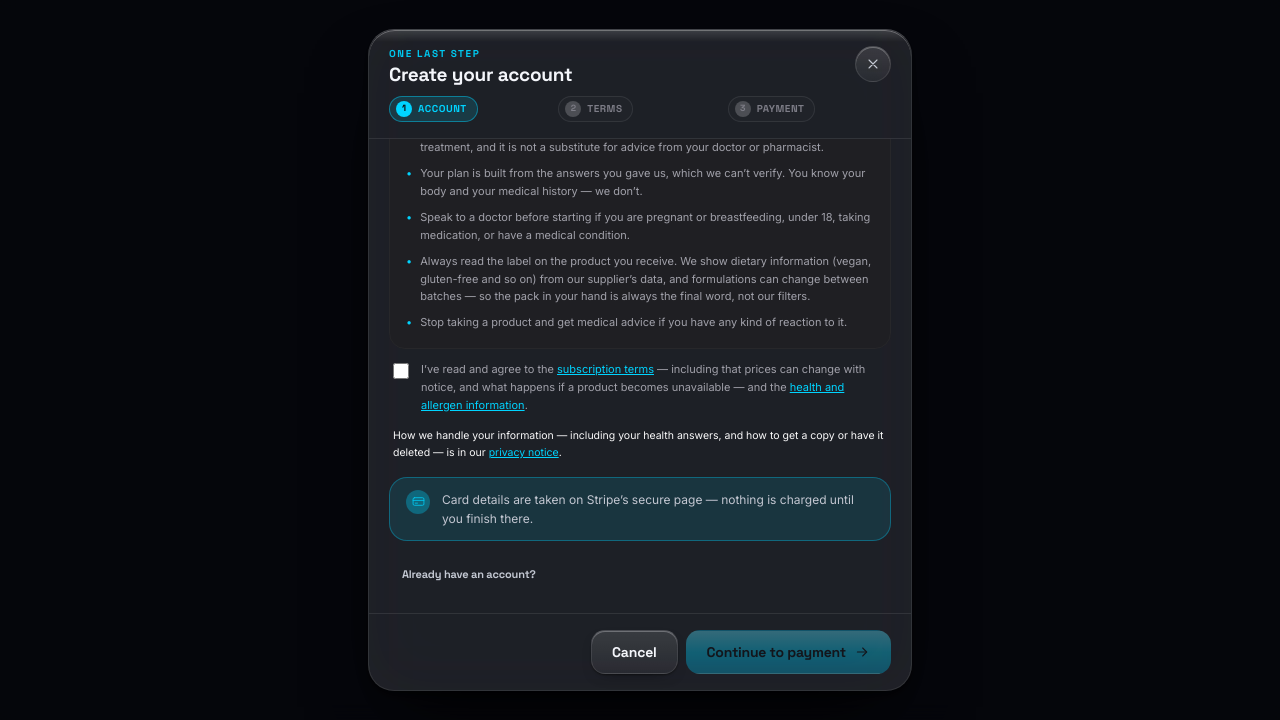
Scenario: AccountGate password reset › says where the link lands, so the checkout isn’t lost silently
(page scrolled)
Click the button "Already have an account?". click: (469, 575)
box: [389,557,549,593]
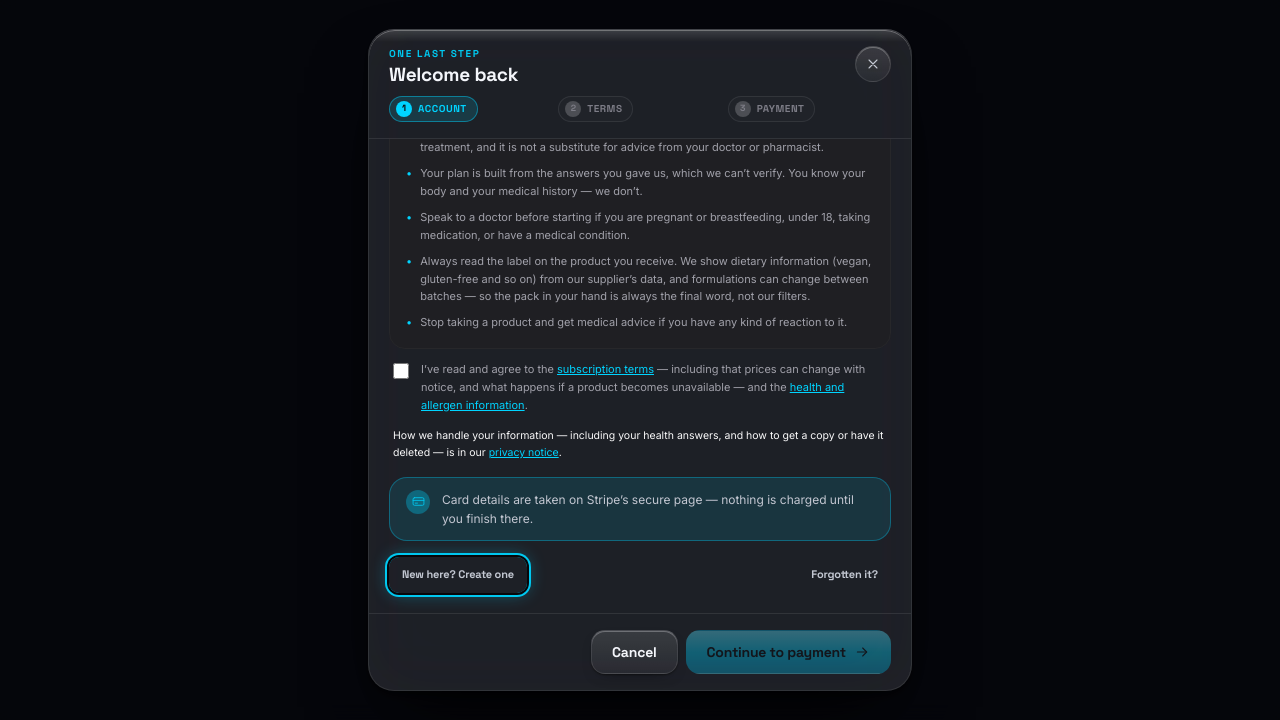
Click the button "Forgotten it?". click: (845, 575)
box: [798,557,891,593]
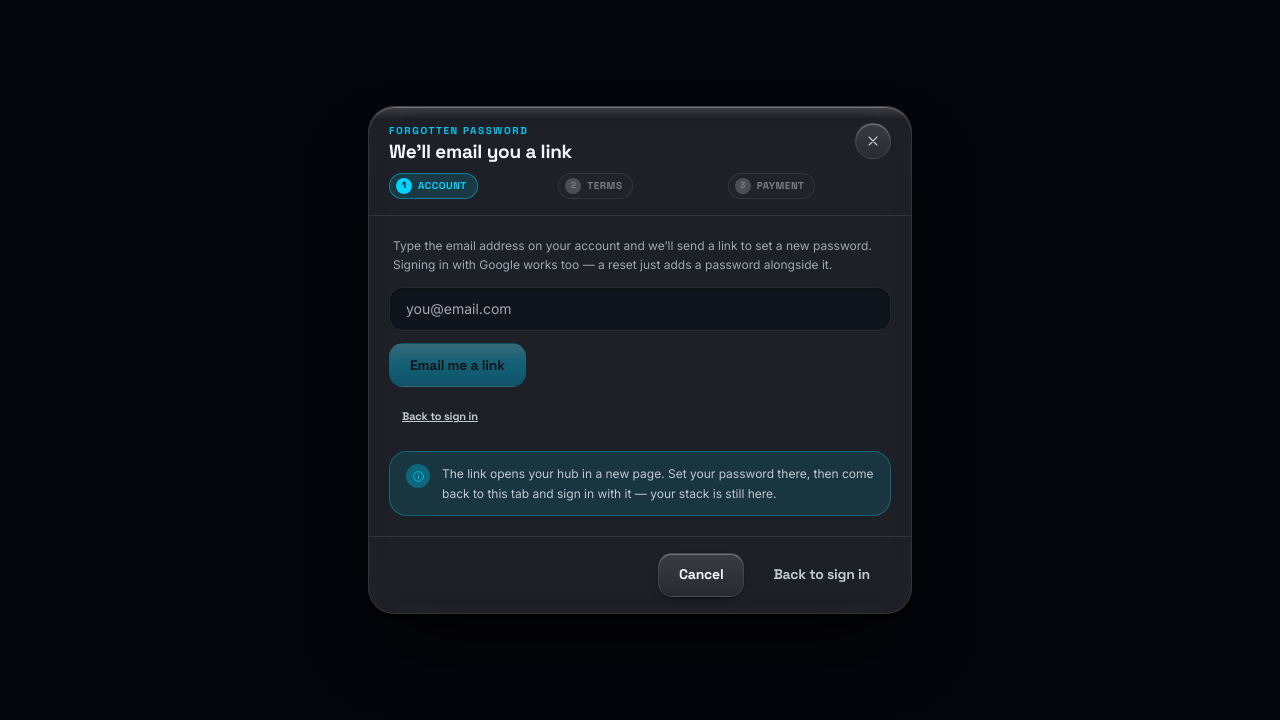
Result: the text "your stack is still here" is shown at [442,466,874,501]
